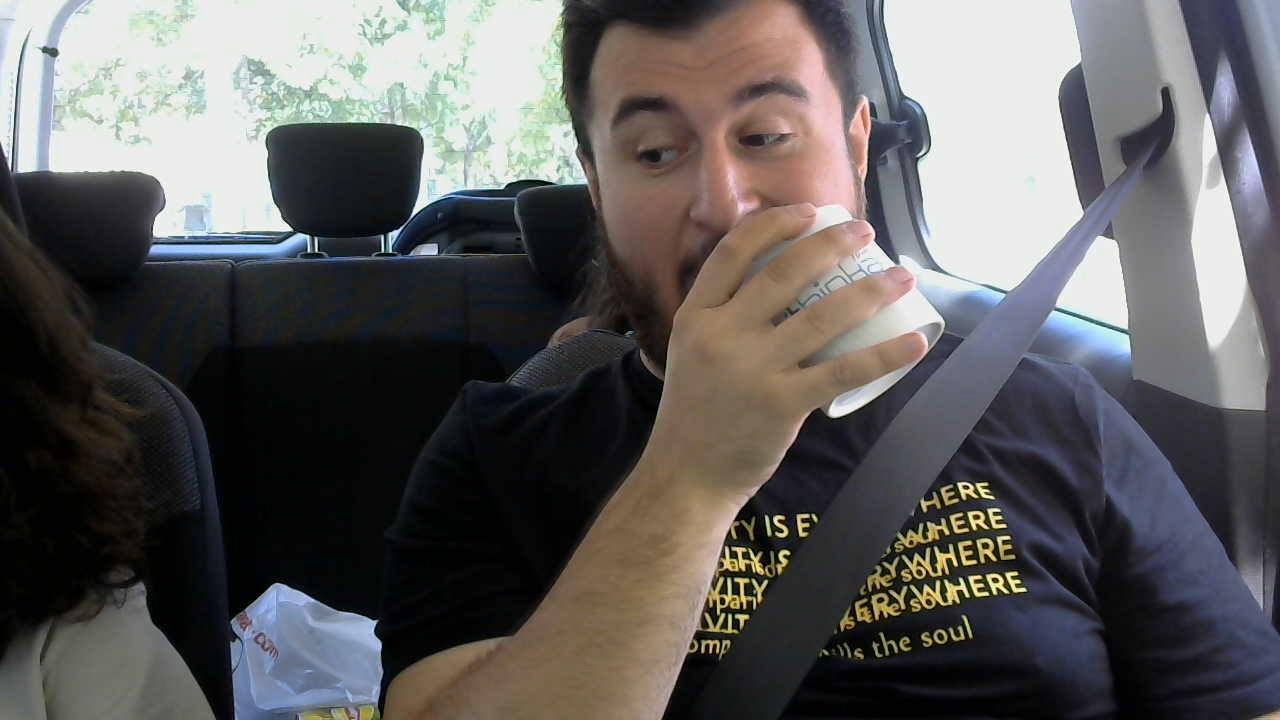Drinking: (571, 17, 945, 420)
